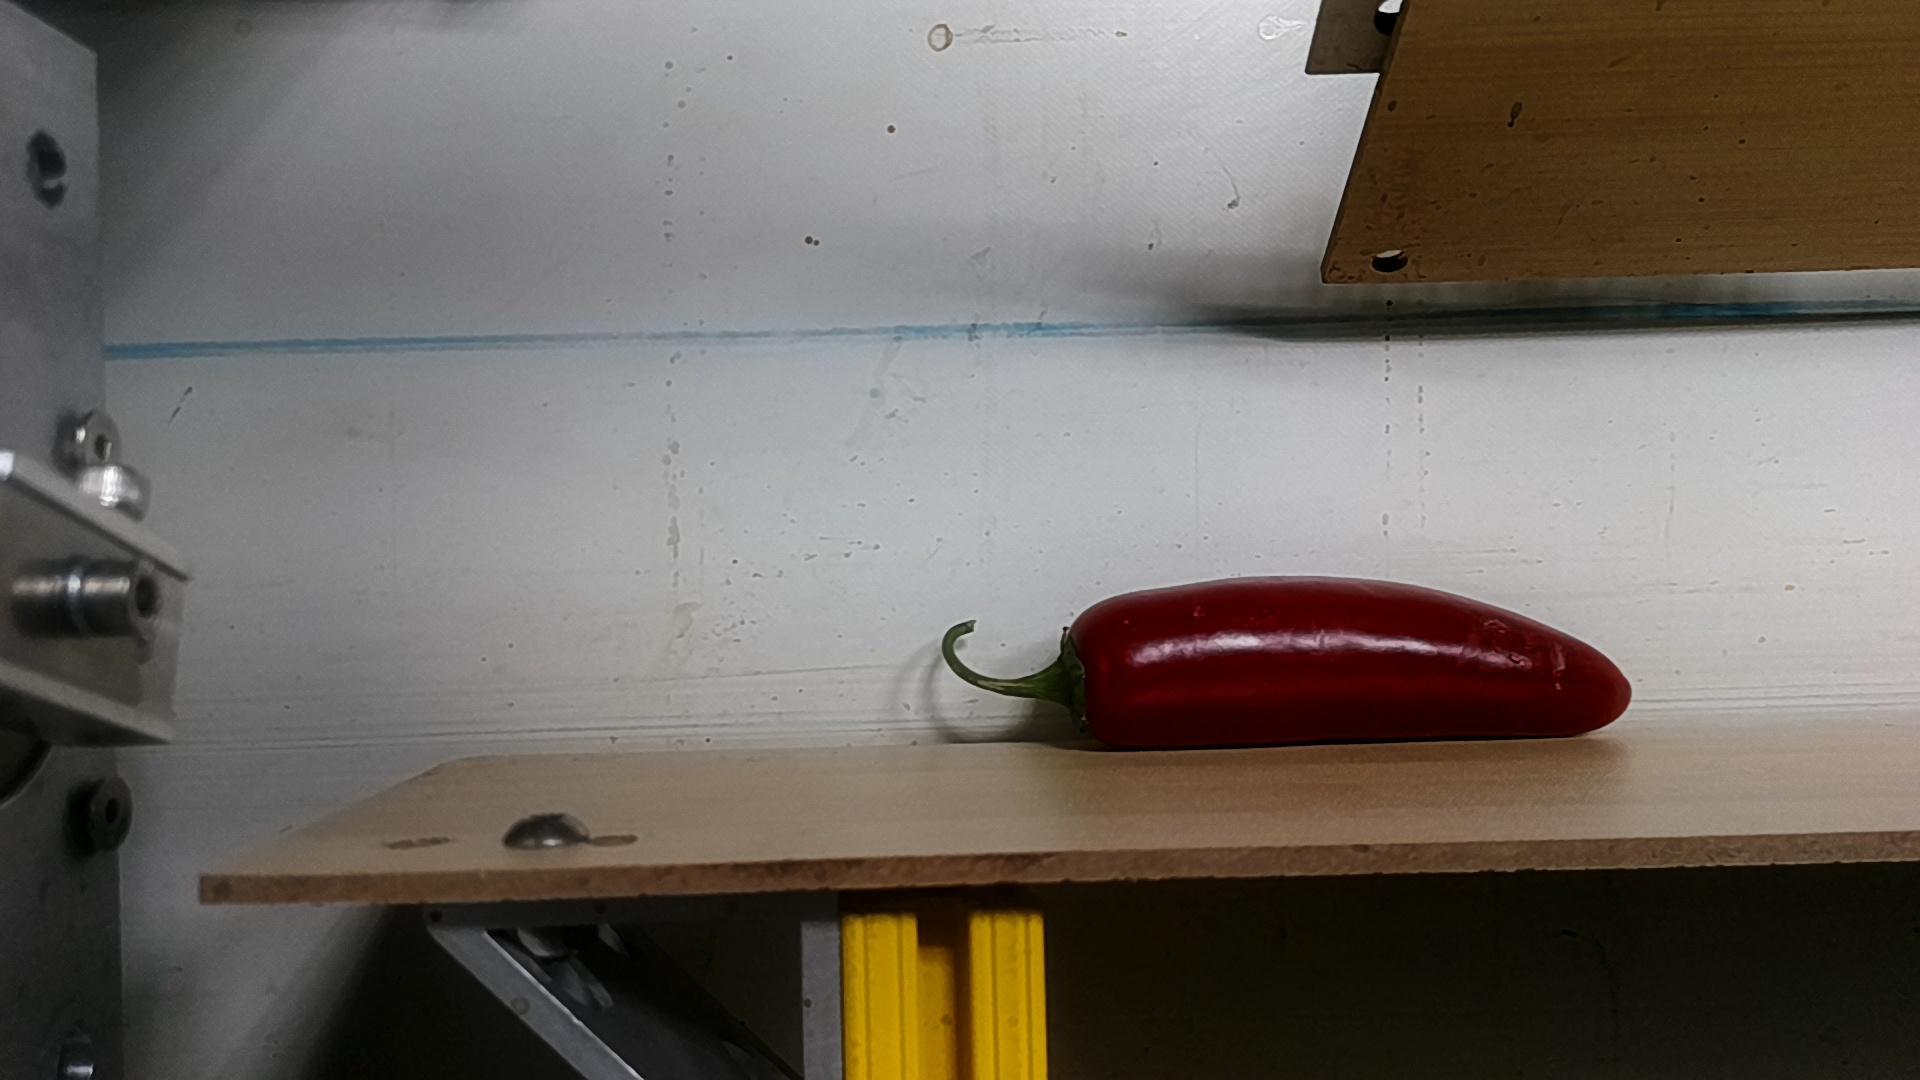Cut Point: (1030, 593, 1145, 749)
